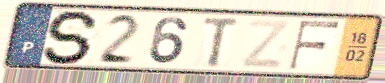2: (92, 14, 145, 65)
6: (148, 15, 189, 66)
F: (286, 19, 343, 72)
S: (40, 9, 103, 66)
T: (201, 15, 242, 70)
Z: (239, 18, 293, 71)
